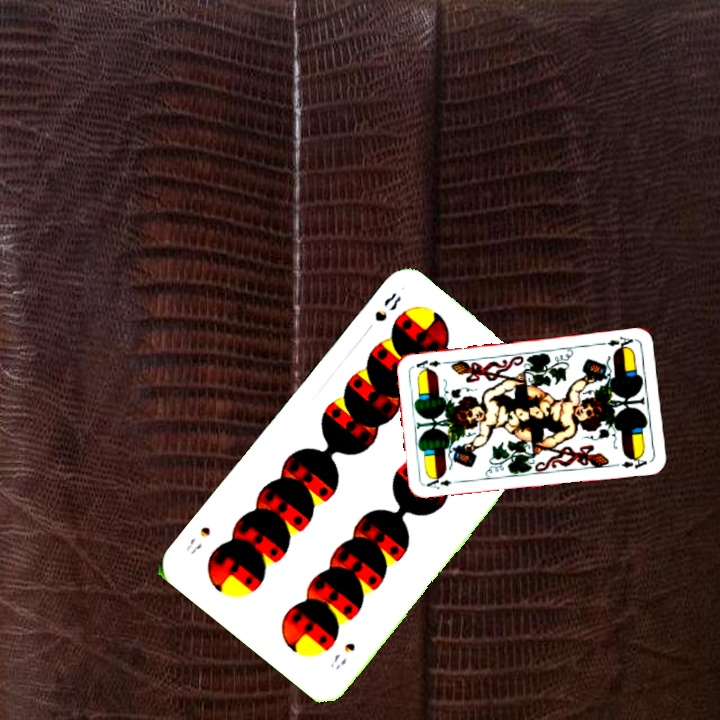EA: (423, 474, 463, 492), (603, 333, 637, 353)
S8: (370, 288, 404, 325), (326, 638, 358, 673)
